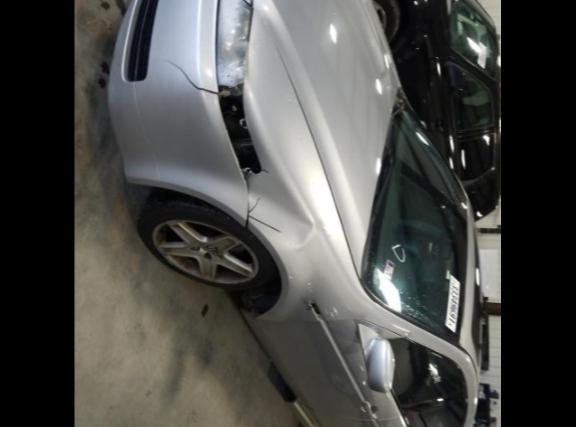Broken part: (214, 0, 260, 172), (154, 59, 218, 98), (242, 176, 252, 229)
Dent: (246, 170, 322, 248)
Missing part: (234, 306, 298, 402), (308, 300, 322, 316)
Paint chip: (248, 216, 280, 232), (248, 196, 260, 214), (248, 196, 260, 212), (262, 168, 270, 172)
